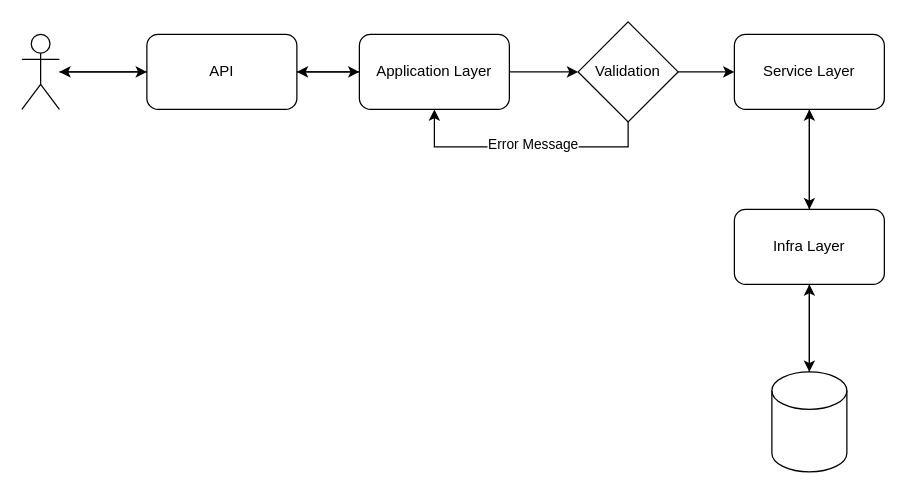
Image size: 906x494. Some labels were removed from this diagram. The centre of each missing label's shape, as x and y in pixels:
"Database" goes at pixel 809 421.
"User" goes at pixel 40 71.
